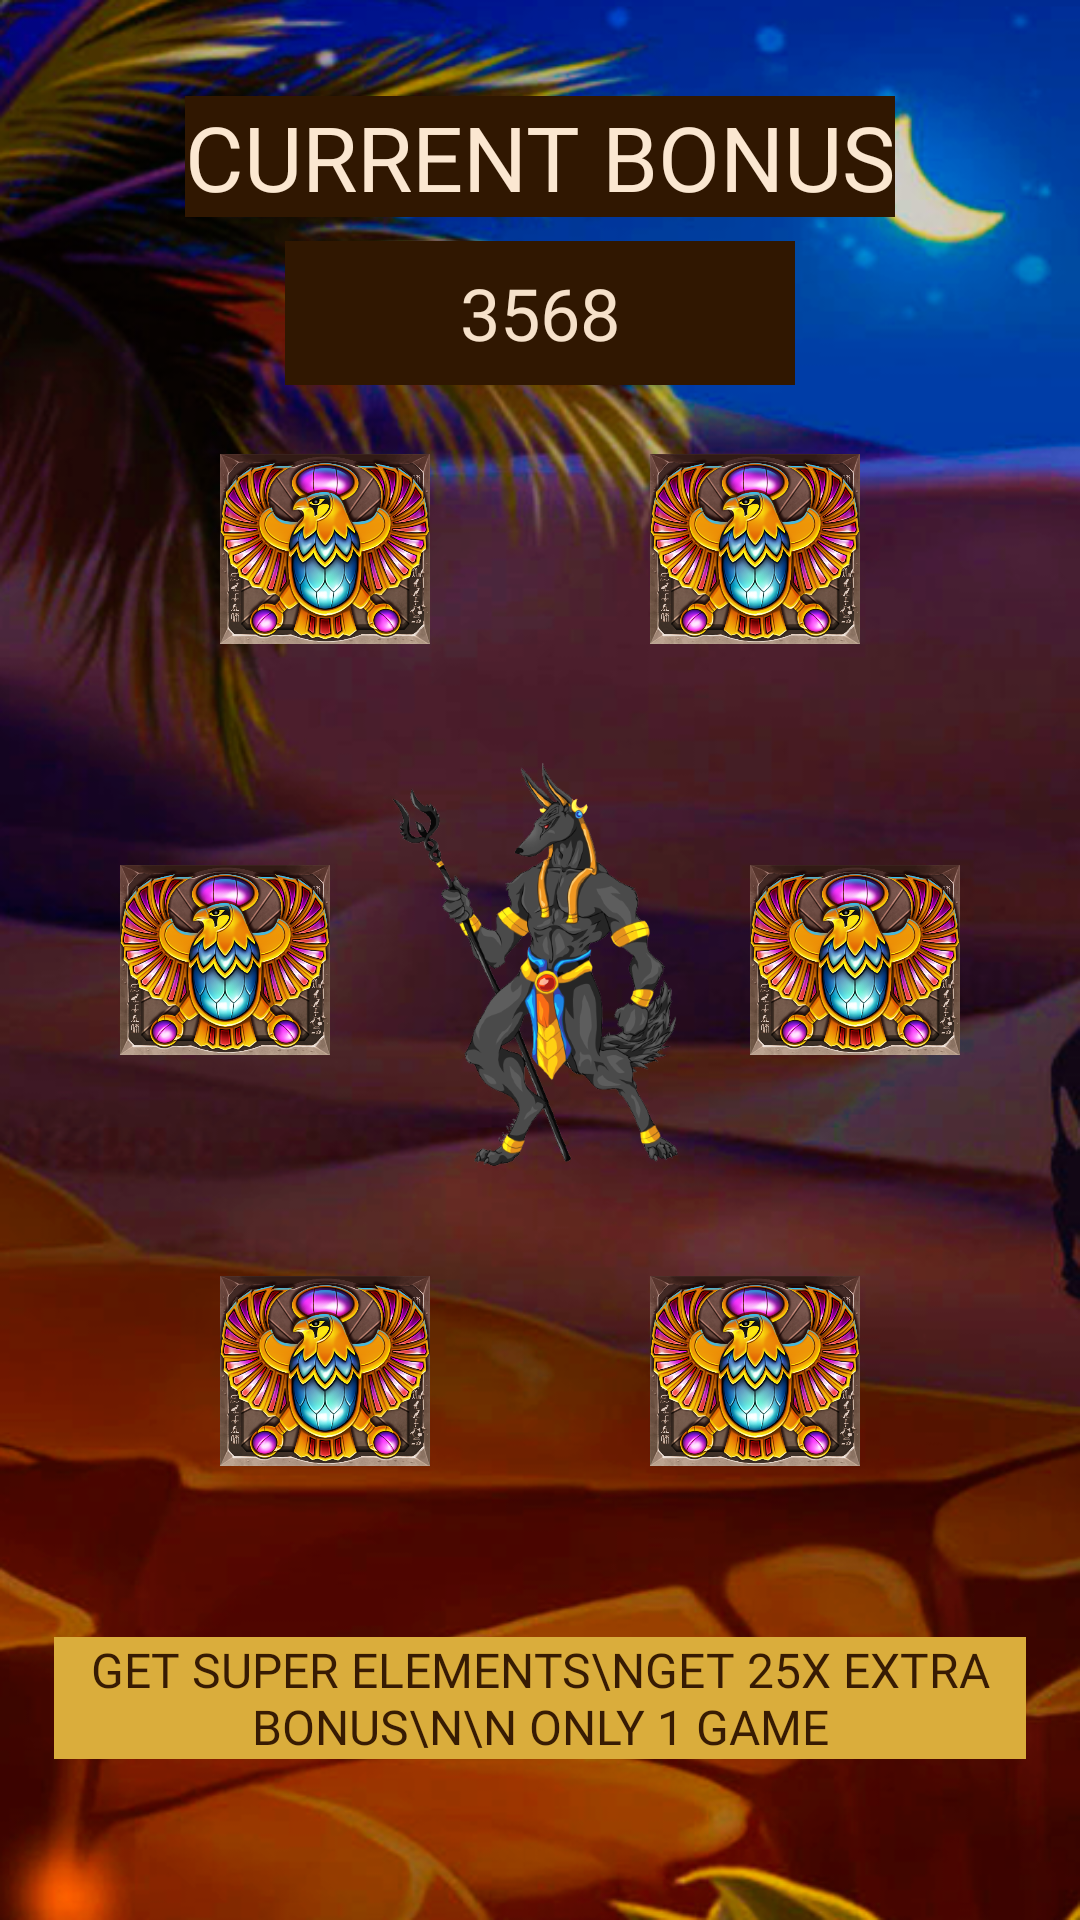

Icons on this 1080px x 1920px Android screen, each with the point to tap as (x,y):
falcon: (325,549), (755,544), (225,955), (855,965), (325,1371), (755,1371)
